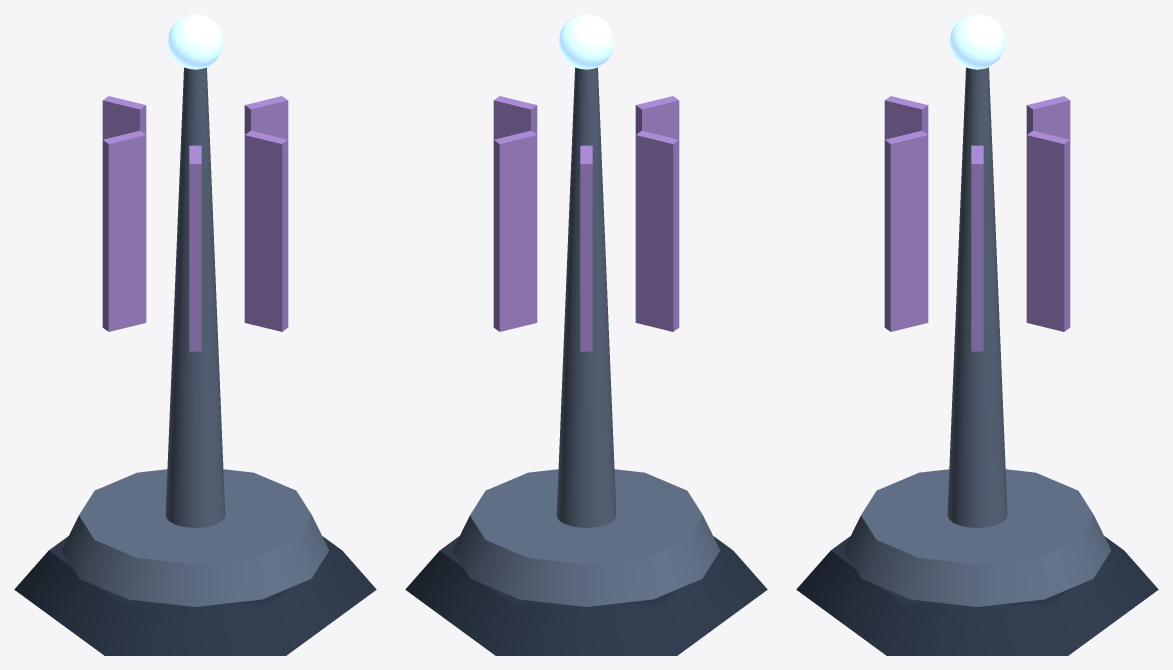
The model's file is cryogenic_hydrocarbon--command_relay.glb.
3 renders of one model, left to right at view 1: azimuth 30°, elevation 25°; view 2: azimuth 150°, elevation 25°; view 3: azimuth 270°, elevation 25°, orthographic.
Parts seen in each view (by area): view 1: rotation_bearing_2, mount_adapter_1, relay_mast_3, relay_vane_5, relay_vane_7, relay_vane_6, signal_tip_10, relay_vane_4, relay_vane_8; view 2: rotation_bearing_2, mount_adapter_1, relay_mast_3, relay_vane_7, relay_vane_9, relay_vane_8, signal_tip_10, relay_vane_4, relay_vane_6; view 3: rotation_bearing_2, mount_adapter_1, relay_mast_3, relay_vane_5, relay_vane_9, relay_vane_4, signal_tip_10, relay_vane_6, relay_vane_8.
Boxes of the visible parts, x1,y1,x2,y2 form: rotation_bearing_2: [61, 469, 329, 606]; mount_adapter_1: [14, 536, 376, 655]; relay_mast_3: [165, 67, 225, 527]; relay_vane_5: [244, 130, 288, 331]; relay_vane_7: [102, 130, 146, 331]; relay_vane_6: [189, 145, 201, 351]; signal_tip_10: [167, 14, 223, 69]; relay_vane_4: [244, 96, 288, 139]; relay_vane_8: [102, 96, 146, 139]; rotation_bearing_2: [452, 469, 720, 606]; mount_adapter_1: [405, 536, 767, 655]; relay_mast_3: [556, 67, 616, 527]; relay_vane_7: [635, 130, 679, 331]; relay_vane_9: [493, 130, 537, 331]; relay_vane_8: [580, 145, 592, 351]; signal_tip_10: [558, 14, 614, 69]; relay_vane_4: [493, 96, 537, 139]; relay_vane_6: [635, 96, 679, 139]; rotation_bearing_2: [844, 469, 1110, 606]; mount_adapter_1: [796, 536, 1158, 655]; relay_mast_3: [947, 67, 1007, 527]; relay_vane_5: [884, 130, 928, 331]; relay_vane_9: [1026, 130, 1070, 331]; relay_vane_4: [971, 145, 983, 351]; signal_tip_10: [949, 14, 1005, 69]; relay_vane_6: [884, 96, 928, 139]; relay_vane_8: [1026, 96, 1070, 139].
Size of the model in its own units: 4.36 by 8.79 by 5.04.
